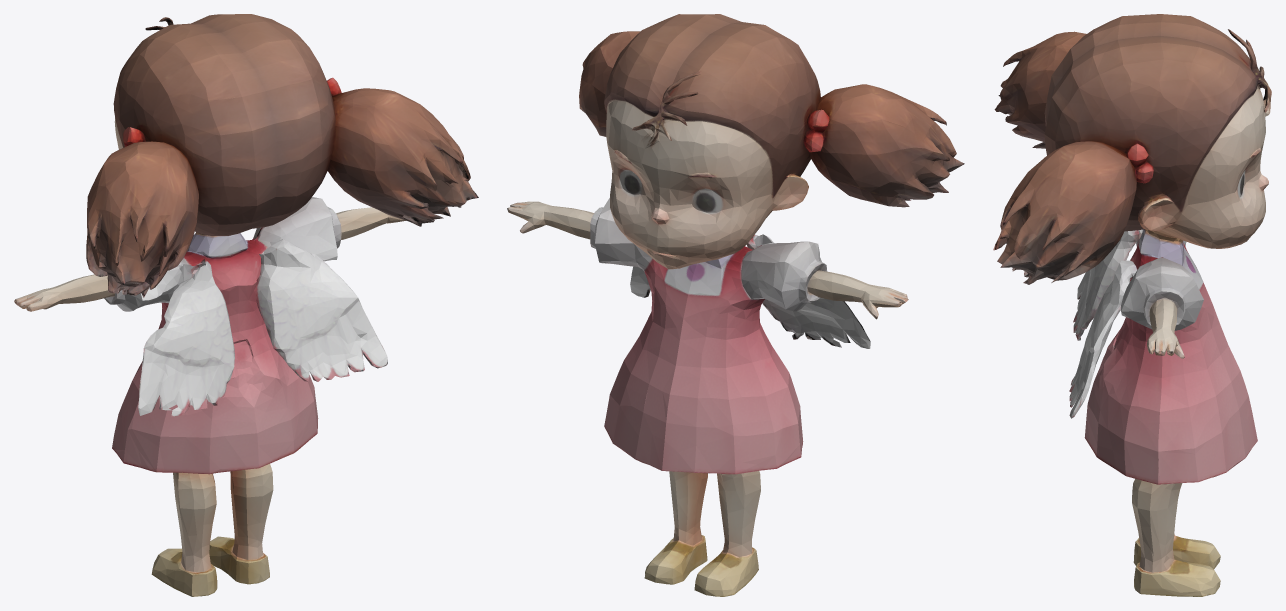
The model's file is edit.glb.
The picture shows the model from 3 angles, left to right: view 1: azimuth 30°, elevation 25°; view 2: azimuth 150°, elevation 25°; view 3: azimuth 270°, elevation 25°; orthographic projection. The views are drawn at different scales.
Visible parts, largest first — view 1: world; view 2: world; view 3: world.
Part boxes in pixels (x1,y1,x2,y2): world: (14, 14, 478, 596); world: (507, 14, 964, 596); world: (993, 14, 1271, 596).
Size of the model in its own units: 0.7703 by 0.9994 by 0.4649.
Materials: 1 (1 with a texture image).
